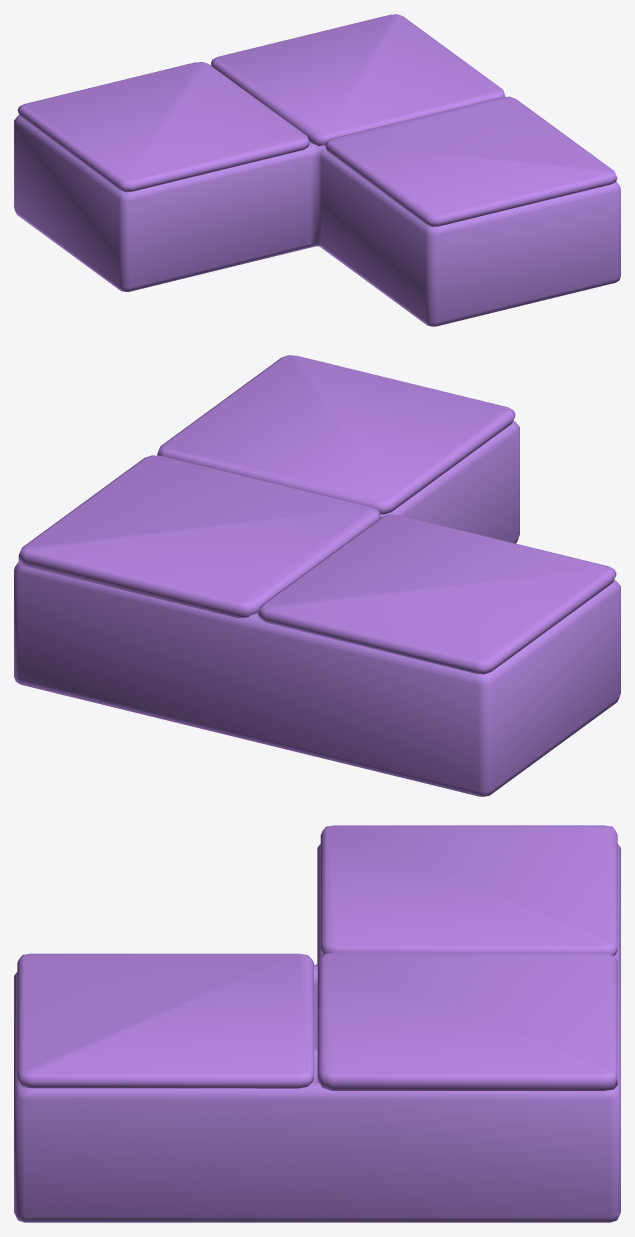
Rendered from Block-L-Purple.fbx.
3 renders of one model, top to bottom at view 1: azimuth 30°, elevation 25°; view 2: azimuth 150°, elevation 25°; view 3: azimuth 270°, elevation 25°, orthographic. The views are drawn at different scales.
Parts seen in each view (by area): view 1: Cube.043, Block-L-Purple; view 2: Cube.043, Block-L-Purple; view 3: Cube.043, Block-L-Purple.
Boxes of the visible parts, x1,y1,x2,y2 form: Cube.043: (17,14,617,226); Block-L-Purple: (14,115,620,326); Cube.043: (18,355,616,674); Block-L-Purple: (14,420,620,796); Cube.043: (17,825,617,1090); Block-L-Purple: (14,843,620,1222).
Bounding box in the file's own units: 200 × 54.25 × 200.
